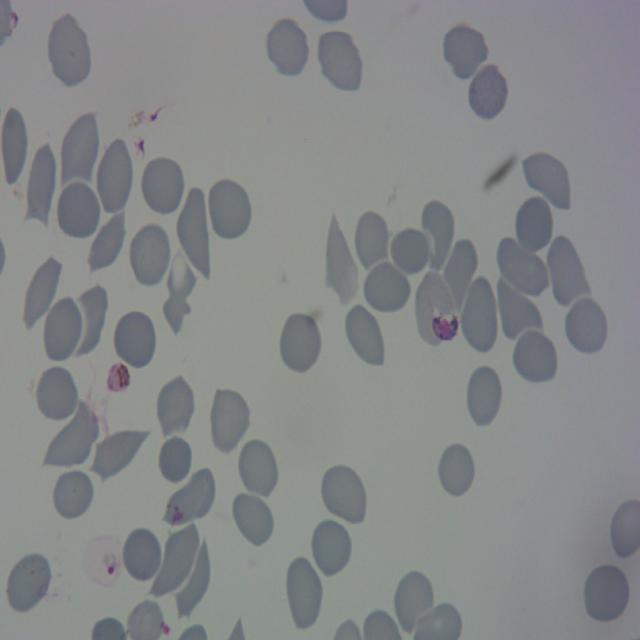leukocyte: (40, 402, 100, 473), (45, 12, 94, 85), (178, 181, 212, 286), (149, 525, 198, 597), (322, 214, 360, 306), (497, 234, 551, 296), (58, 111, 102, 187), (546, 233, 589, 309), (318, 462, 368, 527), (164, 235, 196, 336), (581, 562, 631, 626), (94, 137, 135, 215), (22, 253, 63, 331), (316, 29, 364, 95), (522, 150, 573, 212), (459, 273, 498, 354), (24, 139, 59, 229), (342, 301, 388, 369), (206, 176, 253, 242), (208, 385, 252, 455), (139, 154, 186, 218), (55, 178, 102, 242), (440, 22, 490, 82), (278, 310, 324, 375), (42, 294, 84, 365), (127, 222, 172, 288), (263, 16, 310, 79), (164, 466, 215, 524), (6, 550, 52, 614), (177, 538, 212, 622), (416, 200, 457, 270), (393, 569, 437, 634), (563, 295, 609, 357), (511, 328, 559, 387), (236, 436, 280, 500), (284, 554, 321, 630), (309, 517, 354, 579), (112, 310, 158, 370), (34, 364, 80, 424), (362, 260, 412, 315), (70, 281, 107, 355), (93, 426, 144, 479), (0, 100, 29, 192), (87, 210, 126, 277), (464, 363, 504, 428), (466, 63, 510, 122), (352, 208, 392, 271), (514, 194, 554, 256), (500, 290, 544, 346), (50, 468, 95, 522), (151, 379, 190, 441), (436, 440, 476, 500), (231, 492, 274, 546), (389, 226, 432, 277), (444, 238, 478, 302), (124, 528, 161, 584), (156, 434, 195, 487)
red blood cell: (83, 532, 125, 590)
schizont: (413, 269, 460, 346)
